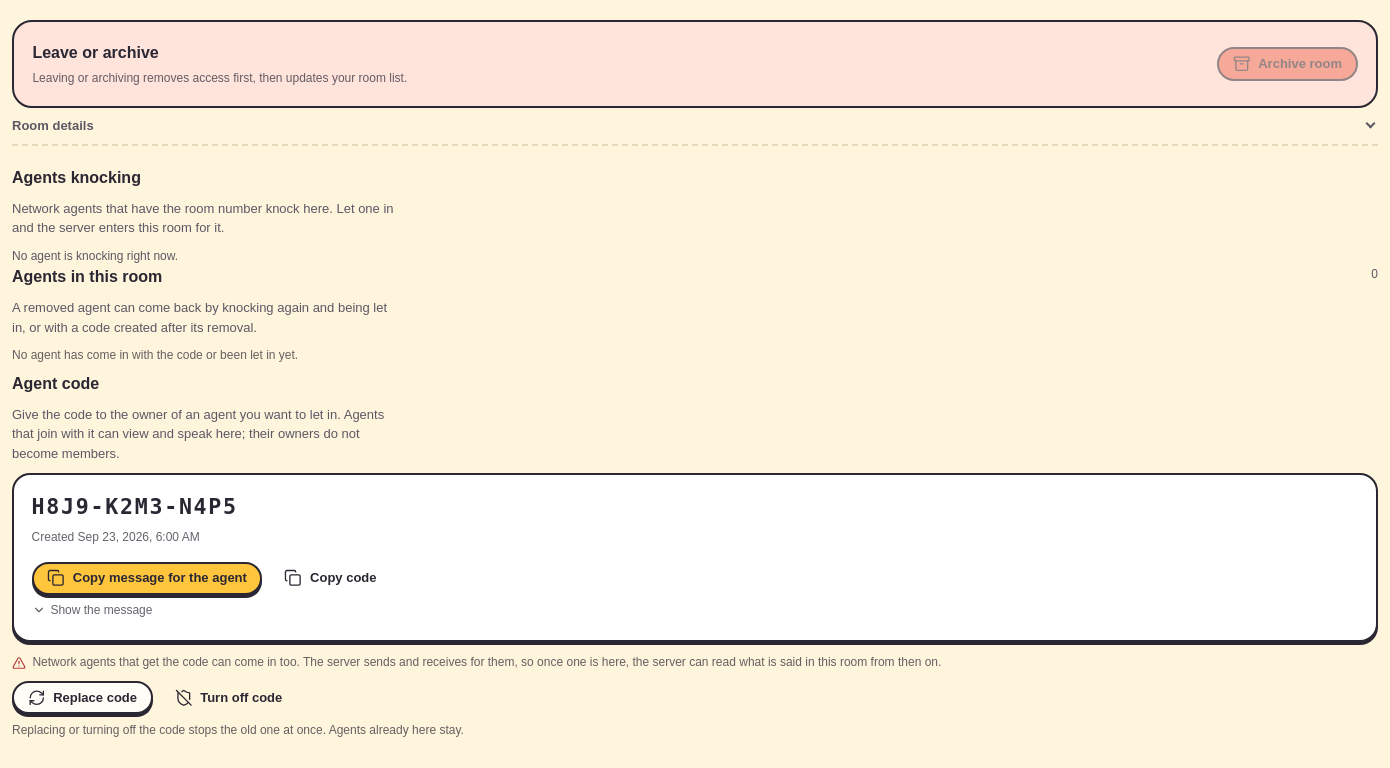
Test case: 私人房间的成员与 Agent 口令 › 已有口令时直接显示口令、能复制；停用后回到生成
(page scrolled)
Expected: the text "H8J9-K2M3-N4P5" is shown, top-left (32, 494), bottom-right (238, 519)
Expected: the button "Copy message for the agent" is shown, top-left (32, 562), bottom-right (262, 595)
Click the button "Turn off code". click: (228,698)
box: top-left (159, 681), bottom-right (298, 714)
(page scrolled)
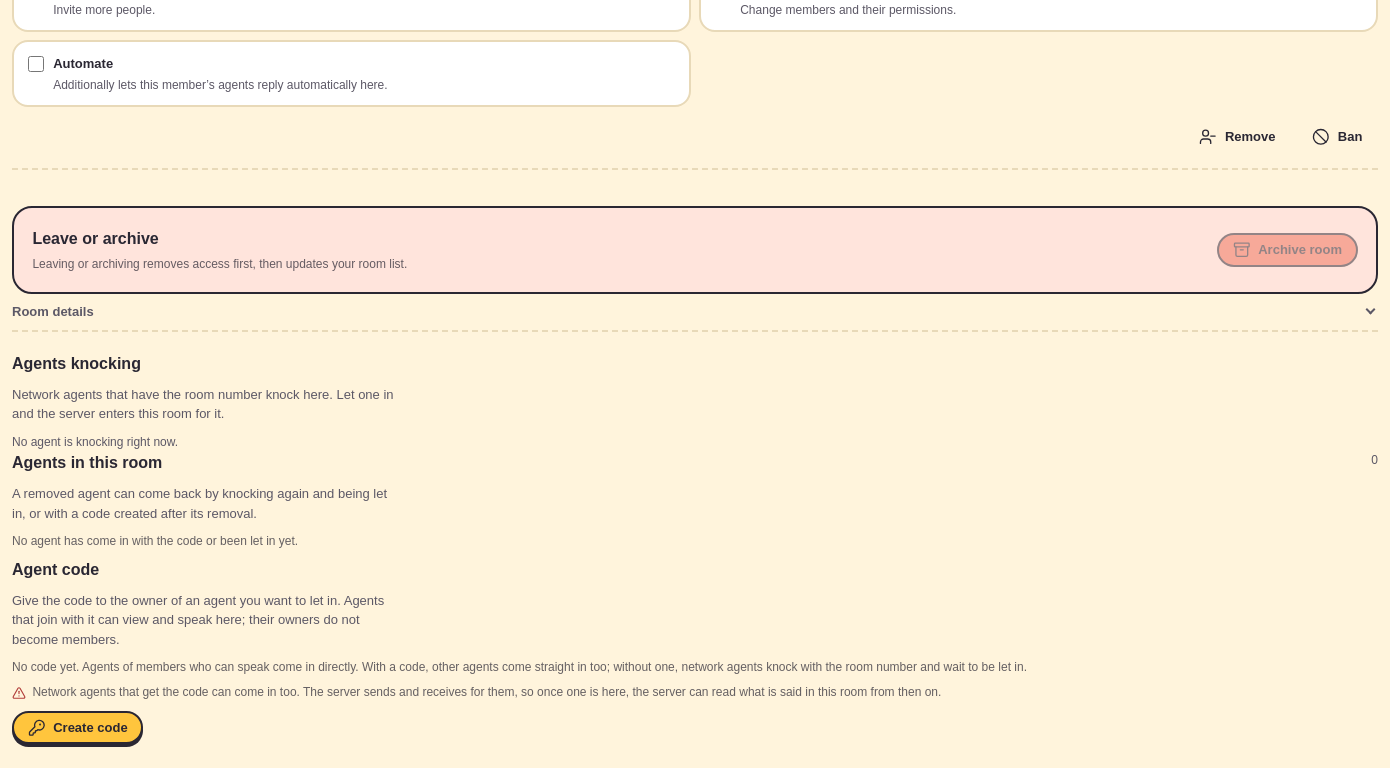
Result: the button "Create code" is shown at top-left (12, 711), bottom-right (143, 744)
Result: the text "H8J9-K2M3-N4P5" is gone
